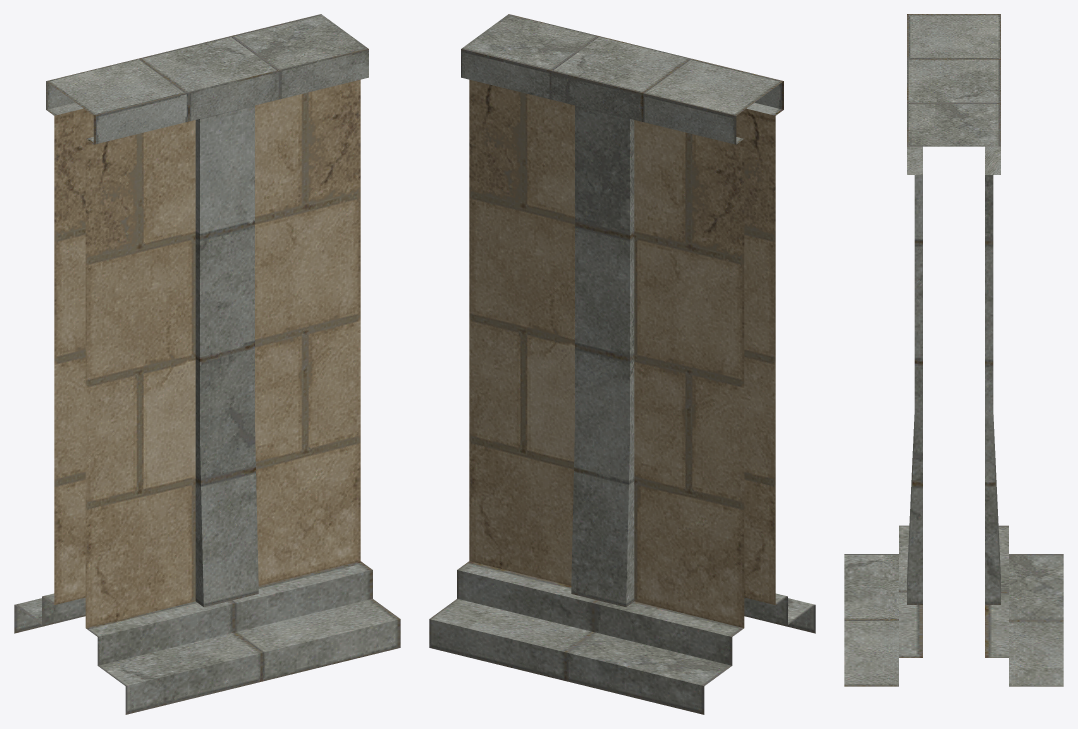
The model's file is wall_1U.fbx.
The picture shows the model from 3 angles, left to right: view 1: azimuth 30°, elevation 25°; view 2: azimuth 150°, elevation 25°; view 3: azimuth 270°, elevation 25°; orthographic projection.
Parts seen in each view (by area): view 1: wall_1U; view 2: wall_1U; view 3: wall_1U.
Part boxes in pixels (<box>): wall_1U: <box>14,14,400,714</box>; wall_1U: <box>429,14,815,714</box>; wall_1U: <box>844,14,1063,686</box>.
Bounding box in the file's own units: 100 × 200 × 70.
